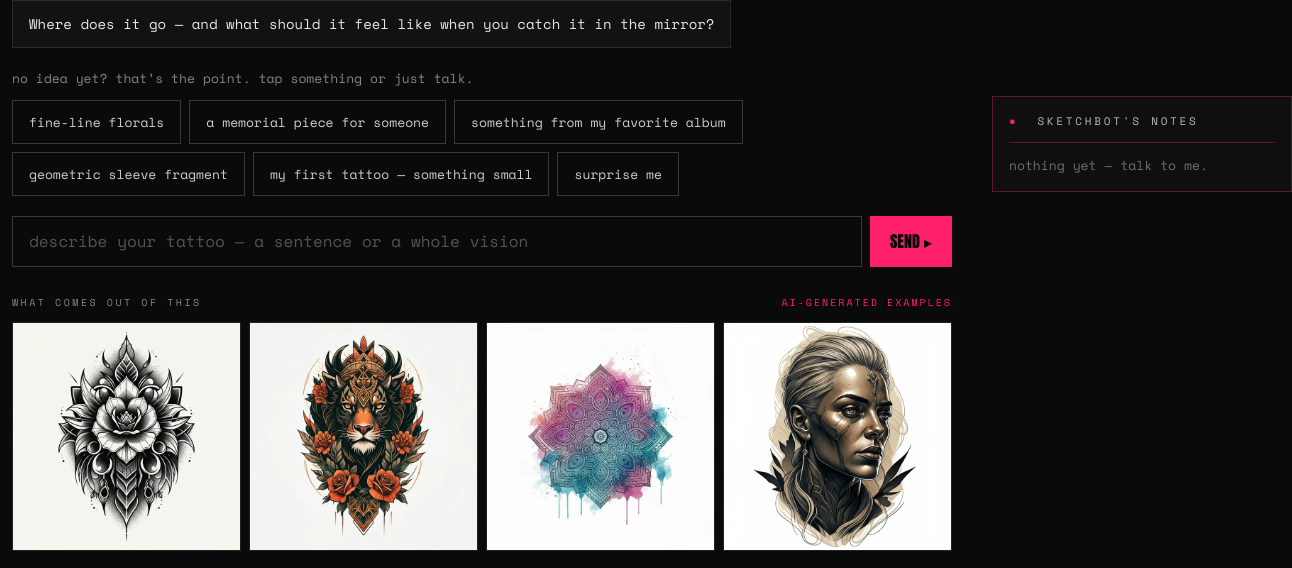
Test: DesignConversation › renders the warm handoff with a CTA and no limit language
Expected: the text "Where does it go — and what should it feel like when you catch it in the mirror?" is shown, [12,0,731,48]
Type "hmm, still not sure" into the field named "Your reply" at (437, 241), box [12,216,862,267]
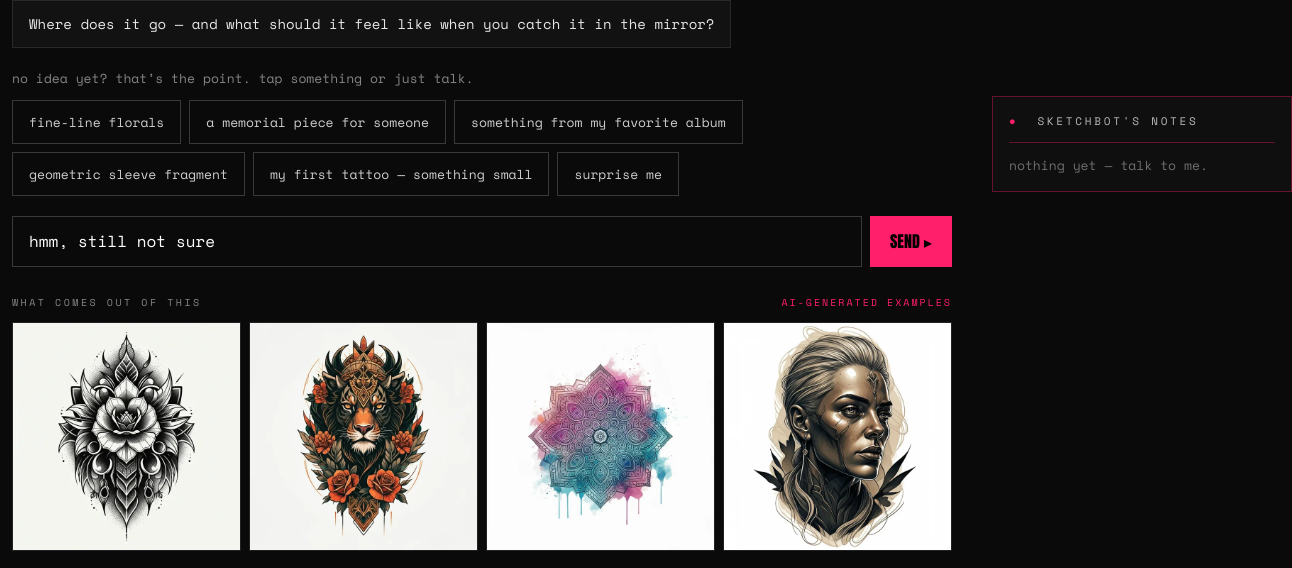
Click the button "Send ▸" at (911, 241), box [870,216,952,267]
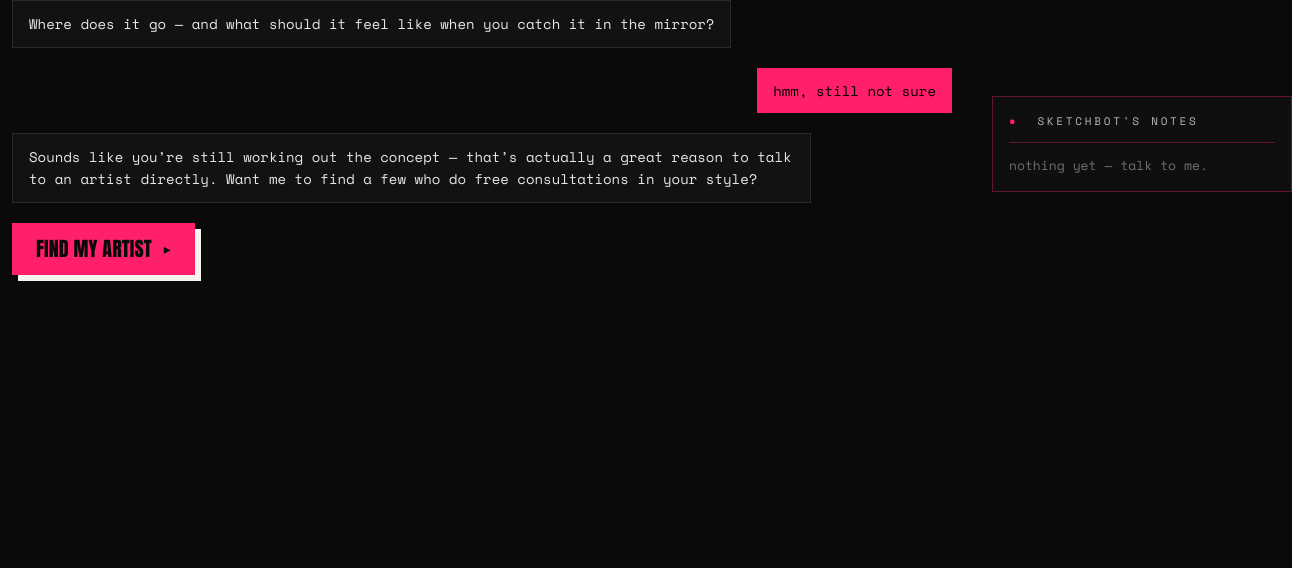
Expected: the text "free consultations in your style" is shown, [29,146,792,189]
